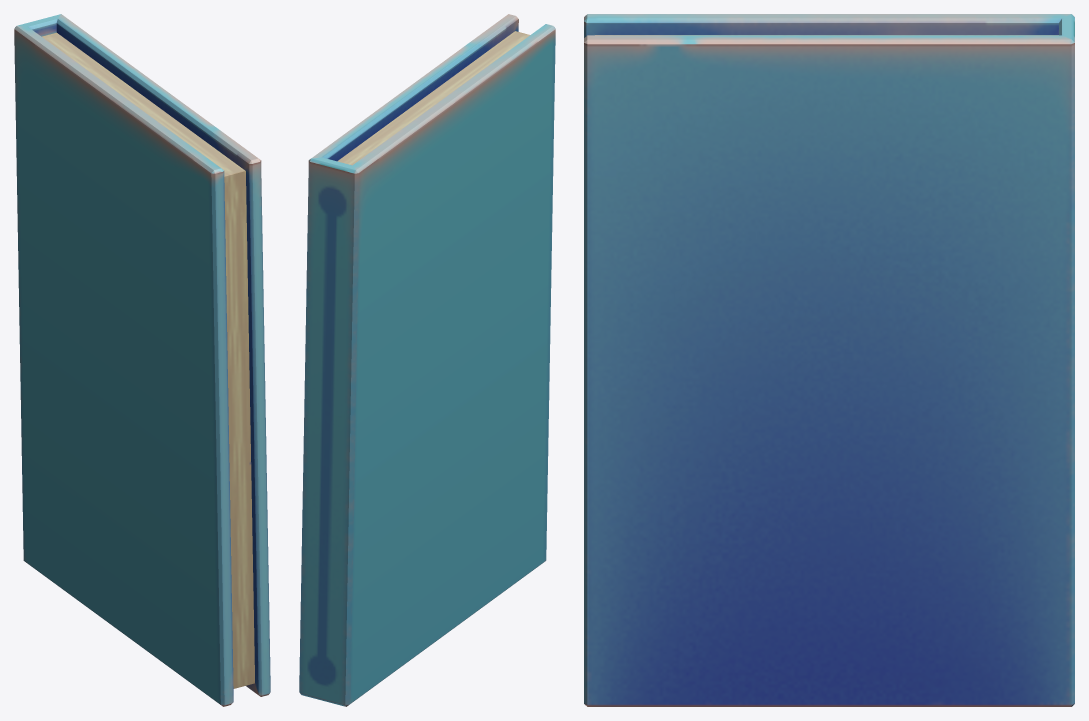
The model's file is Libro_8.fbx.
3 renders of one model, left to right at view 1: azimuth 30°, elevation 25°; view 2: azimuth 150°, elevation 25°; view 3: azimuth 270°, elevation 25°, orthographic. The views are drawn at different scales.
Parts seen in each view (by area): view 1: Libros 8; view 2: Libros 8; view 3: Libros 8.
Boxes of the visible parts, box(x1,y1,x2,y2) form: Libros 8: box(14, 14, 270, 706); Libros 8: box(299, 14, 555, 706); Libros 8: box(584, 14, 1074, 706).
Bounding box in the file's own units: 10.81 × 93.95 × 63.07.
